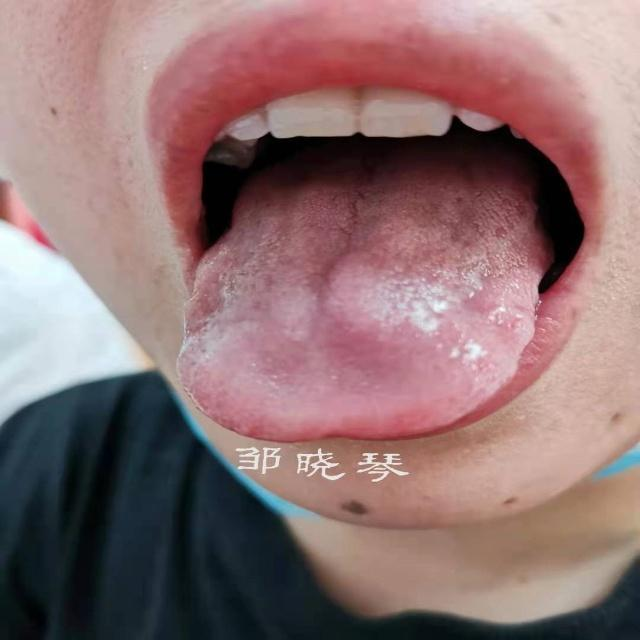baitaishe: (177, 179, 553, 443)
